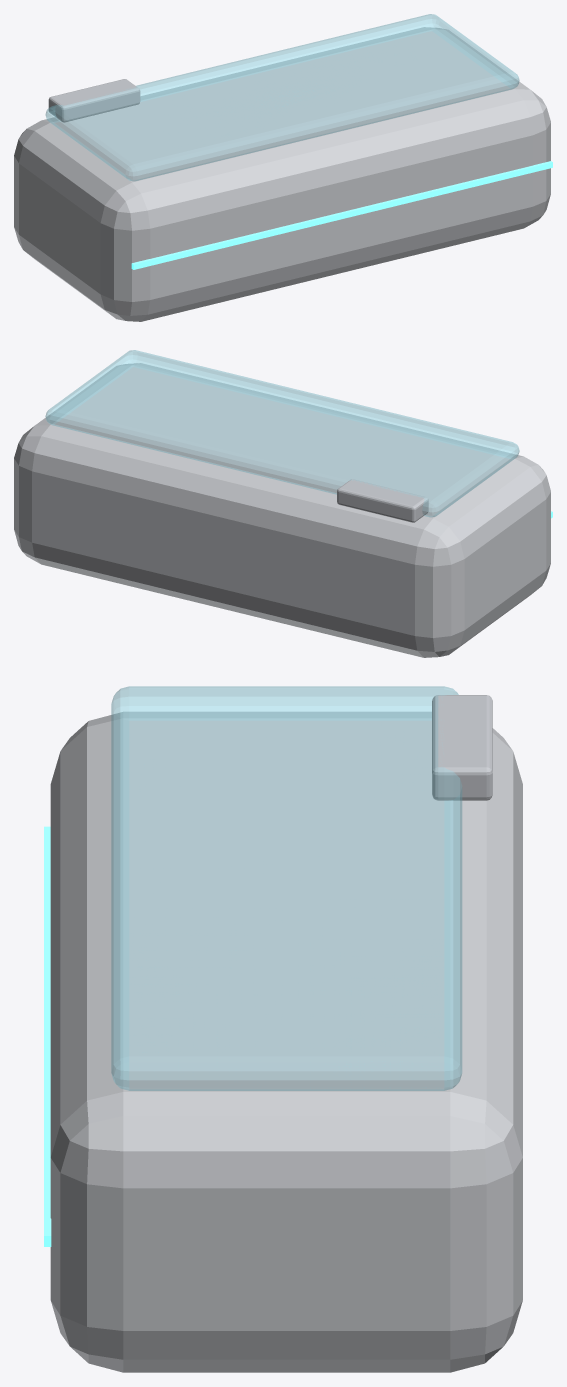
The model's file is bathtub_soak_capsule.glb.
3 renders of one model, top to bottom at view 1: azimuth 30°, elevation 25°; view 2: azimuth 150°, elevation 25°; view 3: azimuth 270°, elevation 25°, orthographic. The views are drawn at different scales.
Parts seen in each view (by area): view 1: GD_bathtub_soak_capsule__m0, GD_bathtub_soak_capsule__m1, GD_bathtub_soak_capsule__m2, GD_bathtub_soak_capsule__m3; view 2: GD_bathtub_soak_capsule__m0, GD_bathtub_soak_capsule__m1, GD_bathtub_soak_capsule__m3; view 3: GD_bathtub_soak_capsule__m0, GD_bathtub_soak_capsule__m1, GD_bathtub_soak_capsule__m3, GD_bathtub_soak_capsule__m2.
Boxes of the visible parts, <box> form: GD_bathtub_soak_capsule__m0: <box>14,27,550,321</box>; GD_bathtub_soak_capsule__m1: <box>45,14,519,181</box>; GD_bathtub_soak_capsule__m2: <box>131,161,552,269</box>; GD_bathtub_soak_capsule__m3: <box>48,79,140,122</box>; GD_bathtub_soak_capsule__m0: <box>14,363,550,657</box>; GD_bathtub_soak_capsule__m1: <box>45,350,519,517</box>; GD_bathtub_soak_capsule__m3: <box>337,479,428,522</box>; GD_bathtub_soak_capsule__m0: <box>50,711,522,1372</box>; GD_bathtub_soak_capsule__m1: <box>111,686,462,1090</box>; GD_bathtub_soak_capsule__m3: <box>432,695,492,800</box>; GD_bathtub_soak_capsule__m2: <box>44,826,51,1246</box>.
Size of the model in its own units: 1.7 by 0.56 by 0.791.
